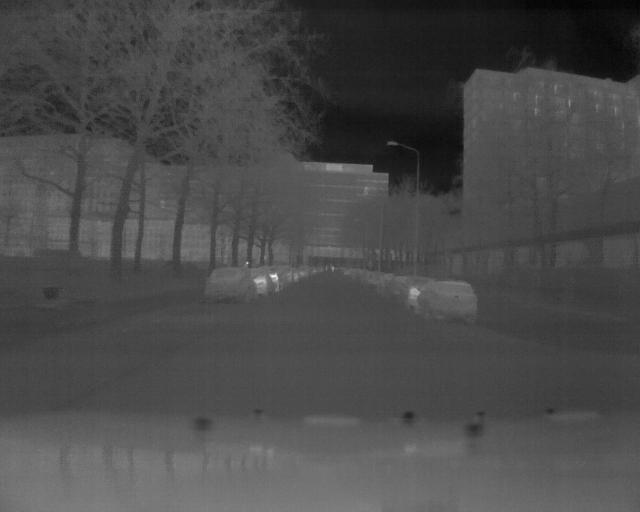car: (418, 281, 478, 326), (202, 264, 259, 303), (385, 273, 416, 305), (263, 265, 293, 297)
